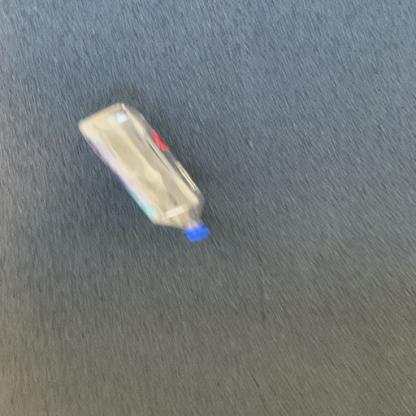trash: (78, 104, 217, 249)
